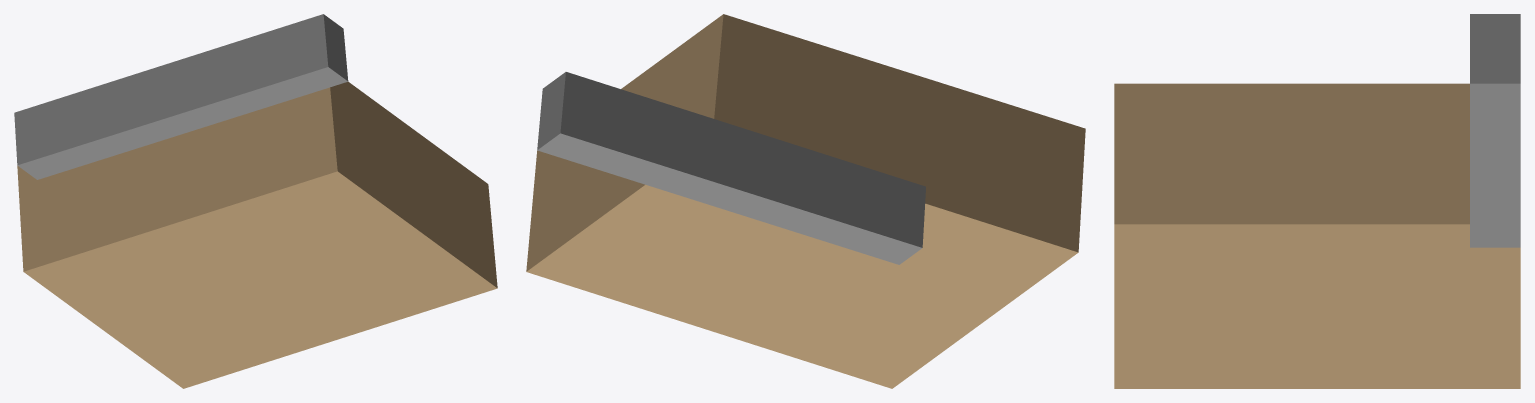
The picture shows the model from 3 angles, left to right: view 1: azimuth 30°, elevation 25°; view 2: azimuth 150°, elevation 25°; view 3: azimuth 270°, elevation 25°; orthographic projection. The views are drawn at different scales.
Visible parts, largest first — view 1: 0_3_0_1_2_1_2_3_0; view 2: 0_3_0_1_2_1_2_3_0; view 3: 0_3_0_1_2_1_2_3_0.
Part boxes in pixels (left/top/right/bottom): 0_3_0_1_2_1_2_3_0: left=14, top=14, right=497, bottom=388; 0_3_0_1_2_1_2_3_0: left=526, top=14, right=1085, bottom=388; 0_3_0_1_2_1_2_3_0: left=1114, top=14, right=1520, bottom=388.
Size of the model in its own units: 28 by 15.27 by 24.
